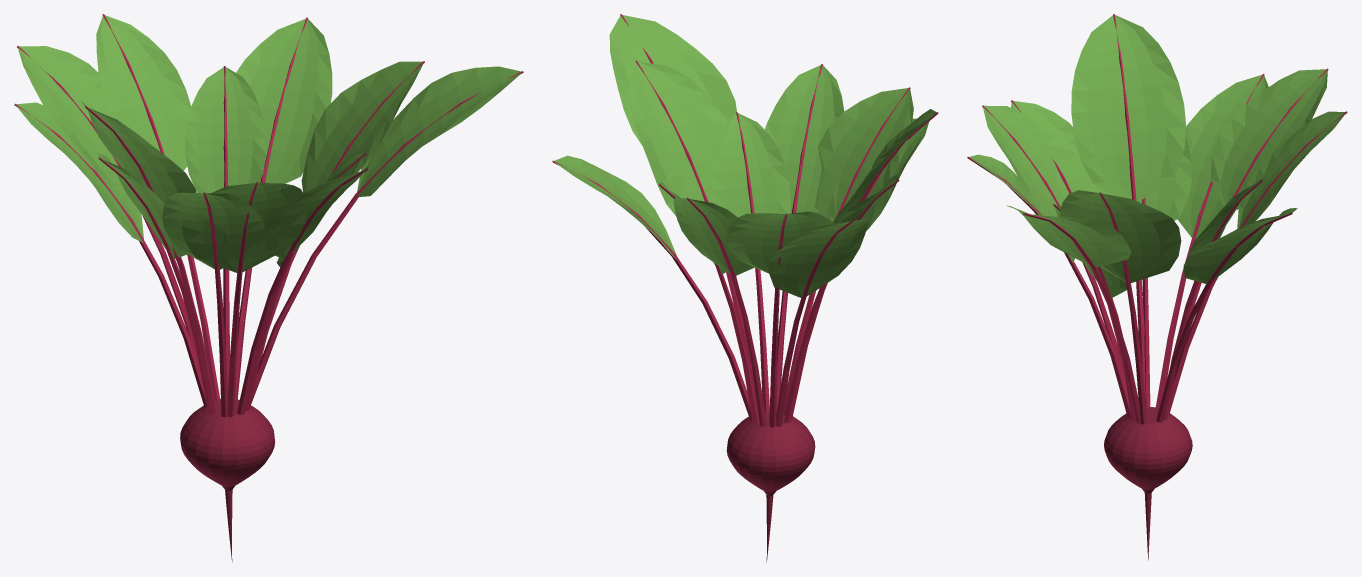
The model's file is beetroot_harvest_v14.glb.
The picture shows the model from 3 angles, left to right: view 1: azimuth 30°, elevation 25°; view 2: azimuth 150°, elevation 25°; view 3: azimuth 270°, elevation 25°; orthographic projection. The views are drawn at different scales.
Parts seen in each view (by area): view 1: plant; view 2: plant; view 3: plant.
Part boxes in pixels (x1=…): plant: x1=14, y1=14, x2=523, y2=562; plant: x1=552, y1=14, x2=938, y2=562; plant: x1=967, y1=14, x2=1347, y2=560.
Size of the model in its own units: 0.3347 by 0.4189 by 0.3043.
1 material, 1 textured.
